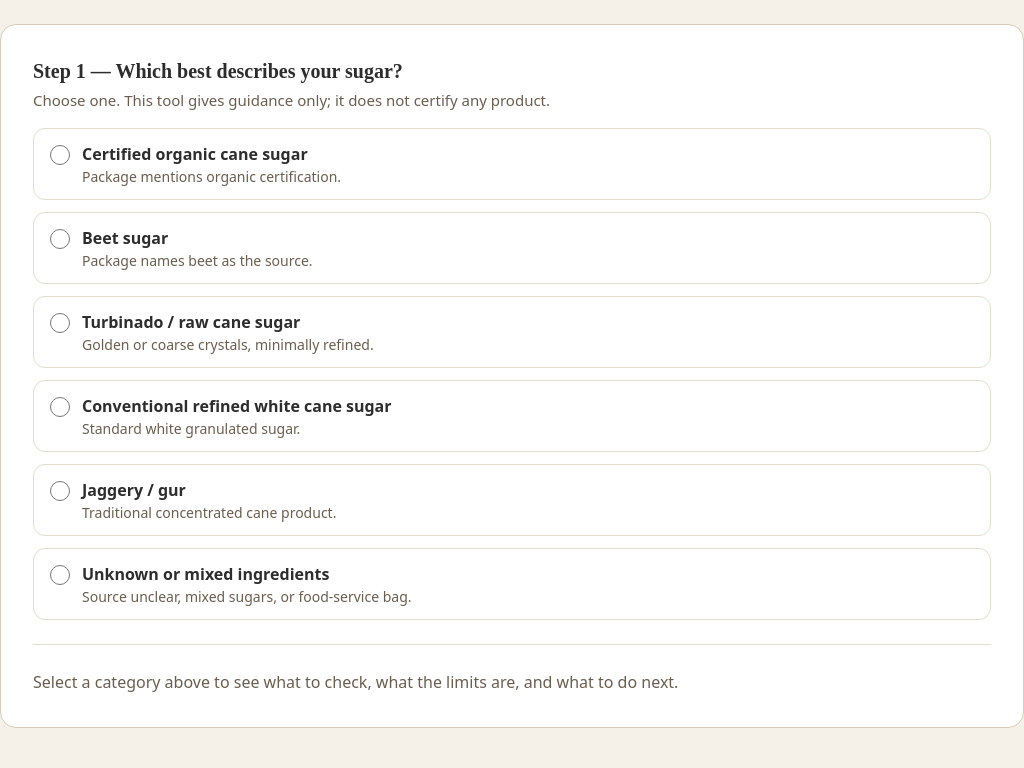
it: sugar checker interaction › shows guidance after choosing a category and supports back/reset
The width and height of the screenshot is (1024, 768).
Expected: the text "Select a category above" is shown, top-left (33, 670), bottom-right (678, 692)
Click the radio button labelled "Conventional refined white cane sugar" at (60, 406), box top-left (50, 396), bottom-right (70, 416)
(page scrolled)
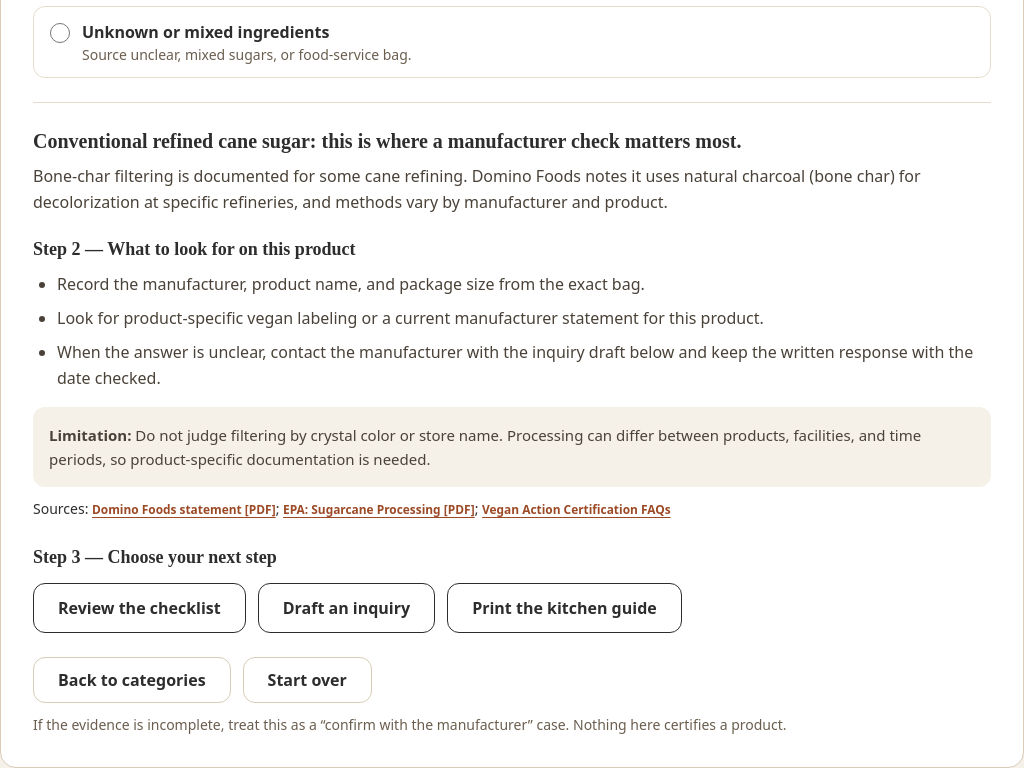
Result: the heading "manufacturer check matters most" is shown at top-left (33, 130), bottom-right (742, 152)
Result: the heading "Step 2 — What to look for on this product" is shown at top-left (33, 238), bottom-right (356, 258)
Result: the link "Domino Foods statement [PDF]" is shown at top-left (92, 501), bottom-right (276, 517)
Click the button "Draft an inquiry" at (346, 608), box top-left (258, 583), bottom-right (435, 633)
(page scrolled)
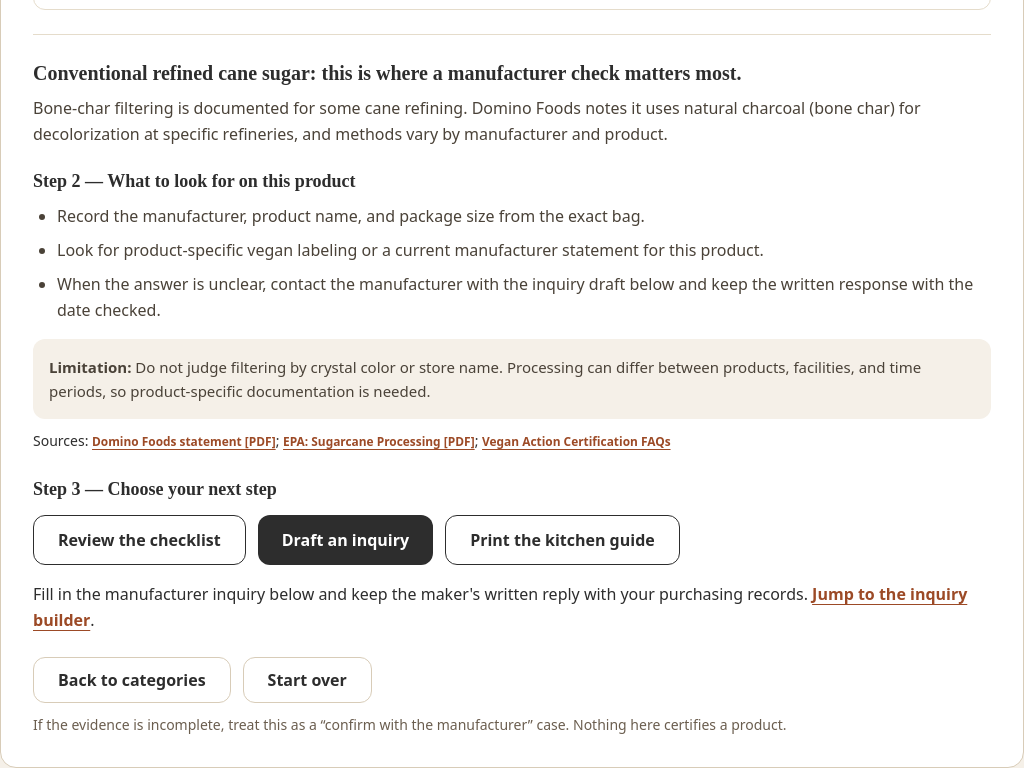
Result: the link "Jump to the inquiry builder" is shown at top-left (33, 583), bottom-right (967, 631)
Click the button "Back to categories" at (132, 680), box top-left (33, 657), bottom-right (231, 703)
(page scrolled)
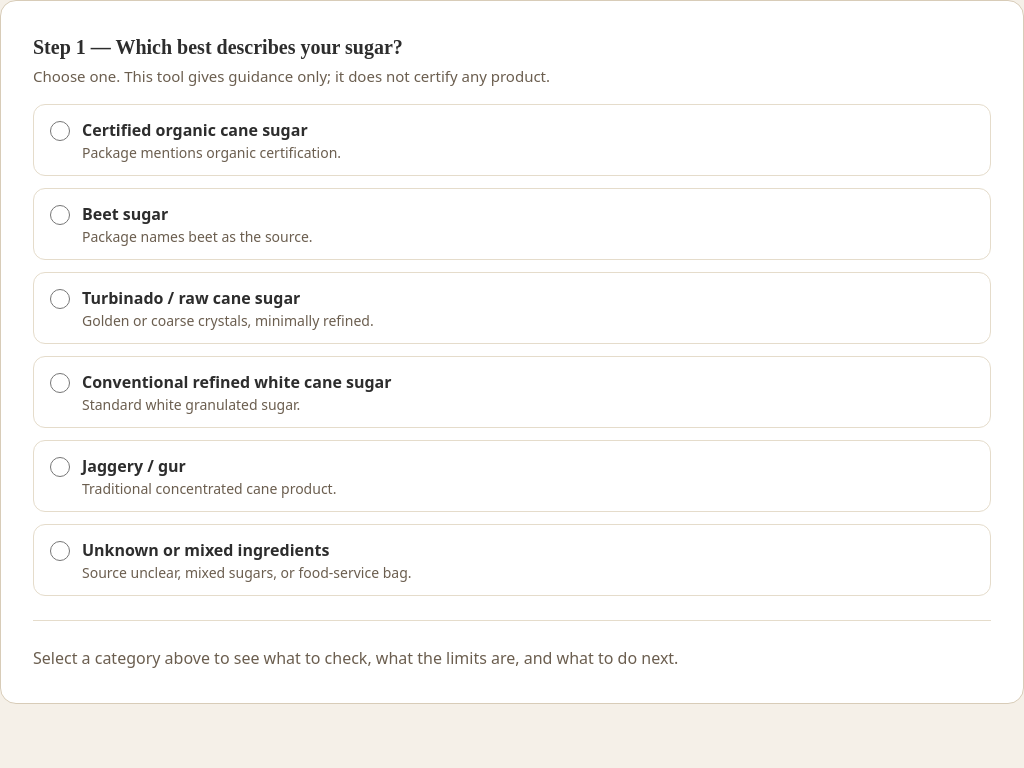
Result: the text "Select a category above" is shown at top-left (33, 646), bottom-right (678, 668)
